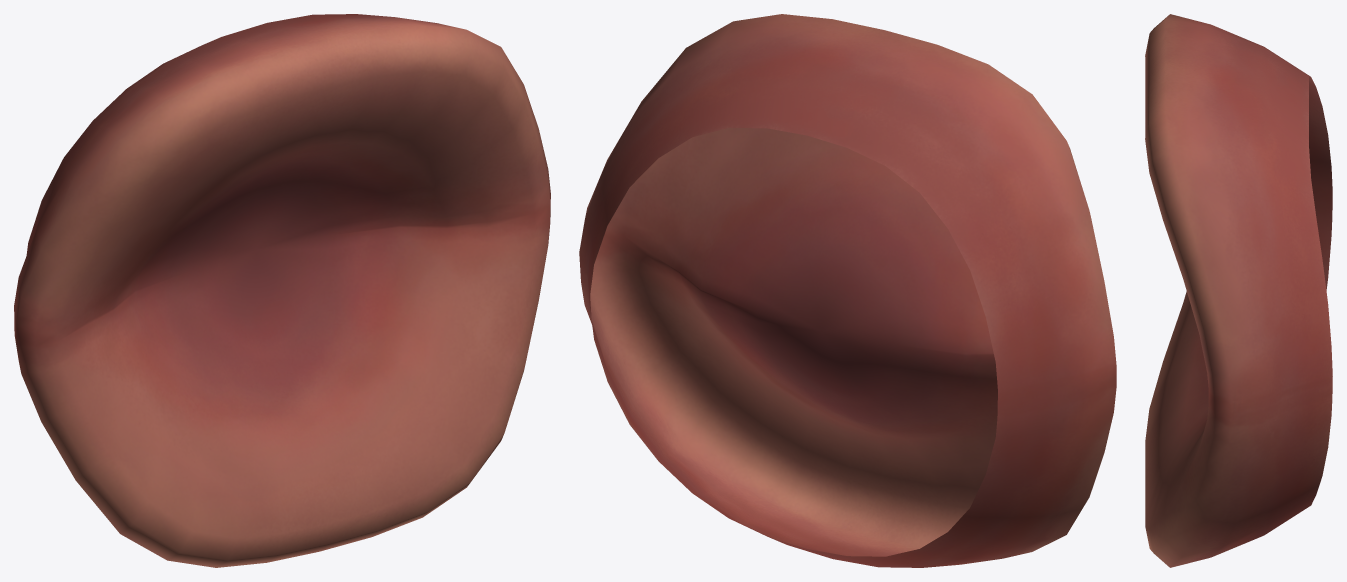
The model's file is FBX_EyeSocket_01.fbx.
3 views of the same model, side by side, from view 1: azimuth 30°, elevation 25°; view 2: azimuth 150°, elevation 25°; view 3: azimuth 270°, elevation 25° (orthographic). The views are drawn at different scales.
Parts seen in each view (by area): view 1: EyeSocket; view 2: EyeSocket; view 3: EyeSocket.
Boxes of the visible parts, <box> form: EyeSocket: <box>14,14,550,567</box>; EyeSocket: <box>579,14,1116,567</box>; EyeSocket: <box>1145,14,1332,567</box>.
Size of the model in its own units: 375 by 342 by 124.
